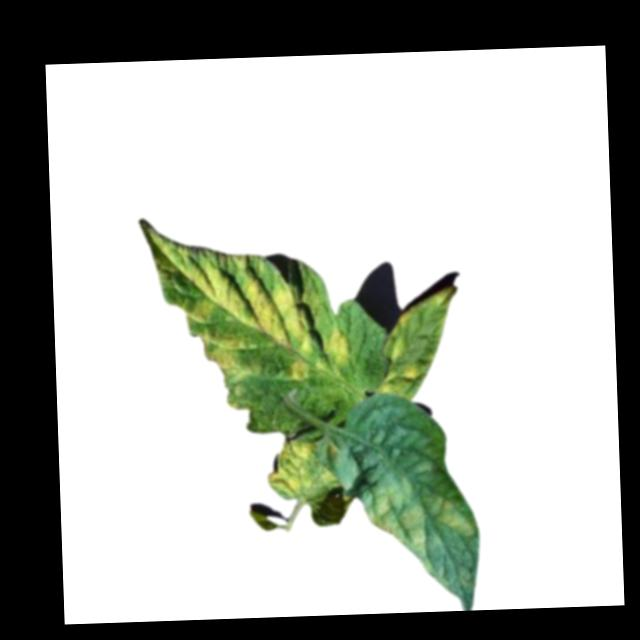Leaf_Mold: (142, 215, 349, 388), (366, 475, 479, 560), (268, 437, 339, 506), (374, 361, 419, 395)
